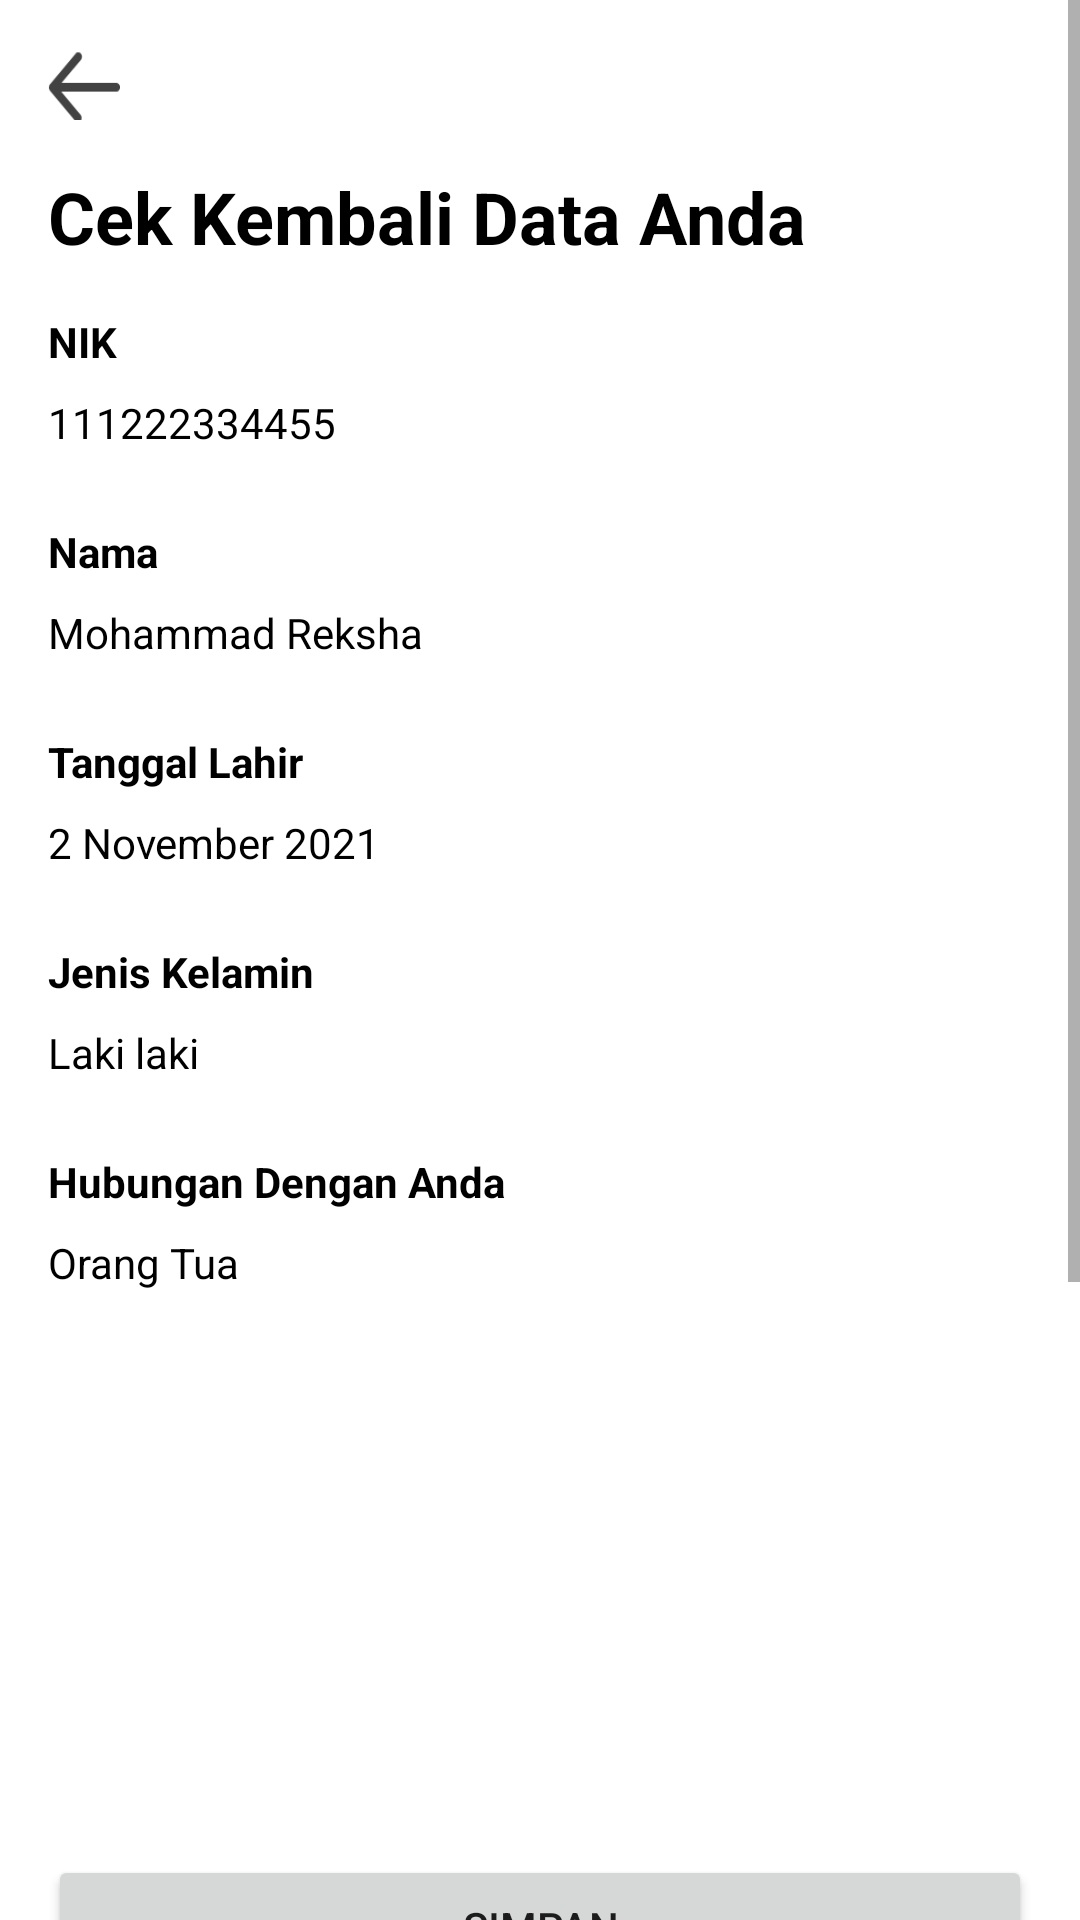

Screen size 1080 x 1920. Icon name, then its box in pixels as {"left": x1, "top": y1, "right": x2, "bottom": y2}:
back: {"left": 49, "top": 52, "right": 120, "bottom": 120}
